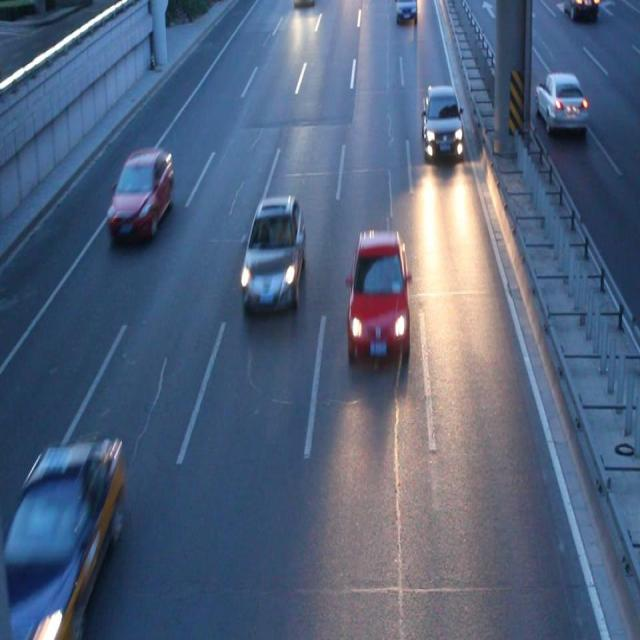car: (1, 440, 121, 623), (346, 232, 410, 361), (240, 198, 304, 314), (106, 147, 173, 241), (420, 85, 463, 160)
